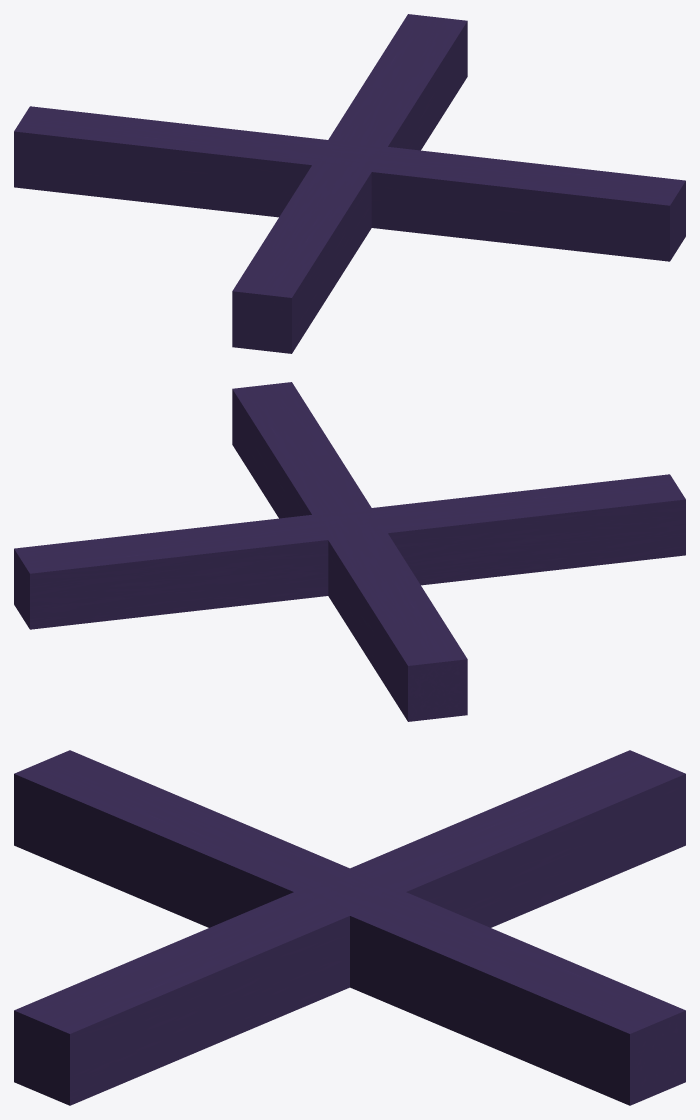
File: companion-downed-fade.glb
The picture shows the model from 3 angles, top to bottom: view 1: azimuth 30°, elevation 25°; view 2: azimuth 150°, elevation 25°; view 3: azimuth 270°, elevation 25°; orthographic projection. The views are drawn at different scales.
Parts seen in each view (by area): view 1: downed-cross-1, downed-cross-0; view 2: downed-cross-0, downed-cross-1; view 3: downed-cross-0, downed-cross-1.
Boxes of the visible parts, bbox=[...] form: downed-cross-1: bbox=[14, 106, 685, 261]; downed-cross-0: bbox=[232, 14, 467, 353]; downed-cross-0: bbox=[14, 474, 685, 629]; downed-cross-1: bbox=[232, 382, 467, 721]; downed-cross-0: bbox=[14, 750, 685, 1105]; downed-cross-1: bbox=[14, 750, 685, 1105].
Size of the model in its own units: 0.1697 by 0.02 by 0.1697.
1 material, 1 textured.
